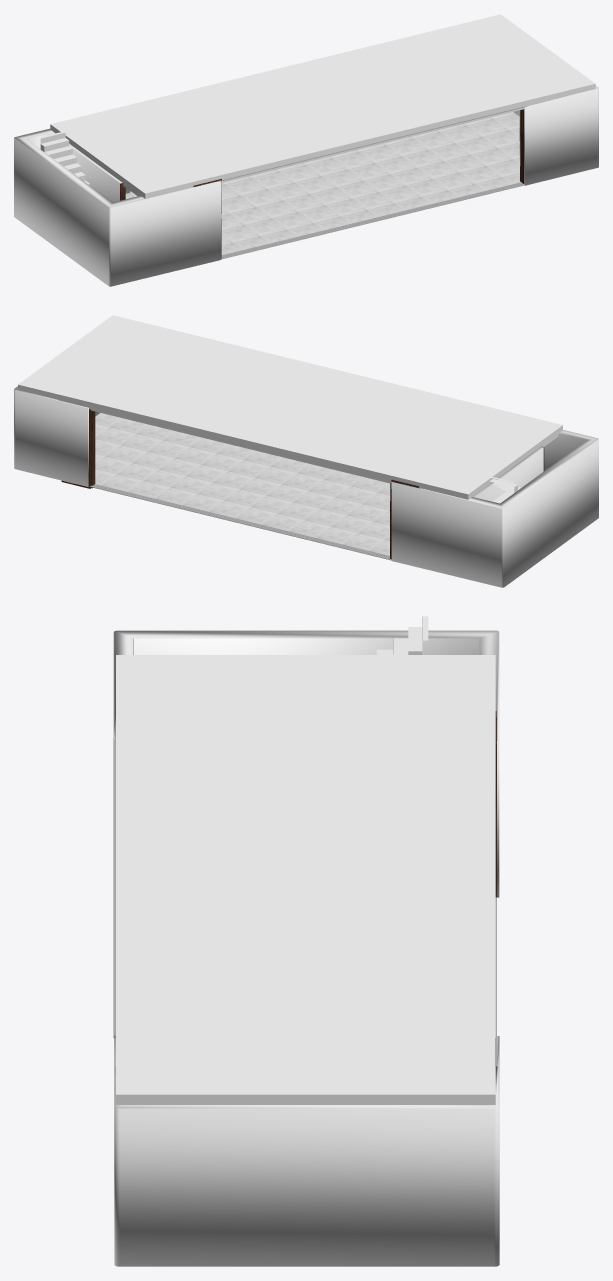
Rendered from Ground Floor_draco.glb.
The picture shows the model from 3 angles, top to bottom: view 1: azimuth 30°, elevation 25°; view 2: azimuth 150°, elevation 25°; view 3: azimuth 270°, elevation 25°; orthographic projection. The views are drawn at different scales.
Parts seen in each view (by area): view 1: Ceiling, Floor, Right Ground Floor Wall, Left Ground Floor Wall.001, Door Tracks, Staircase, Ground Floor Doors, Door Tracks.001; view 2: Ceiling, Floor, Right Ground Floor Wall, Left Ground Floor Wall.001, Door Tracks, Ground Floor Doors, Staircase; view 3: Ceiling, Left Ground Floor Wall.001, Right Ground Floor Wall, Staircase, Door Tracks.001.
Boxes of the visible parts, x1,y1,x2,y2 form: Ceiling: [50, 14, 595, 198]; Floor: [125, 112, 519, 254]; Right Ground Floor Wall: [14, 128, 221, 286]; Left Ground Floor Wall.001: [513, 85, 598, 185]; Door Tracks: [130, 182, 524, 259]; Staircase: [39, 131, 89, 185]; Ground Floor Doors: [193, 109, 524, 257]; Door Tracks.001: [219, 106, 526, 181]; Ceiling: [18, 315, 562, 499]; Floor: [95, 413, 390, 555]; Right Ground Floor Wall: [391, 430, 598, 587]; Left Ground Floor Wall.001: [14, 386, 100, 486]; Door Tracks: [89, 484, 391, 560]; Ground Floor Doors: [61, 409, 418, 559]; Staircase: [488, 476, 521, 503]; Ceiling: [116, 655, 495, 1104]; Left Ground Floor Wall.001: [114, 1035, 499, 1266]; Right Ground Floor Wall: [113, 630, 499, 897]; Staircase: [376, 616, 428, 654]; Door Tracks.001: [113, 738, 115, 1038].
Size of the model in its own units: 127 by 22.91 by 43.44.
Materials: 10 (4 with a texture image).
